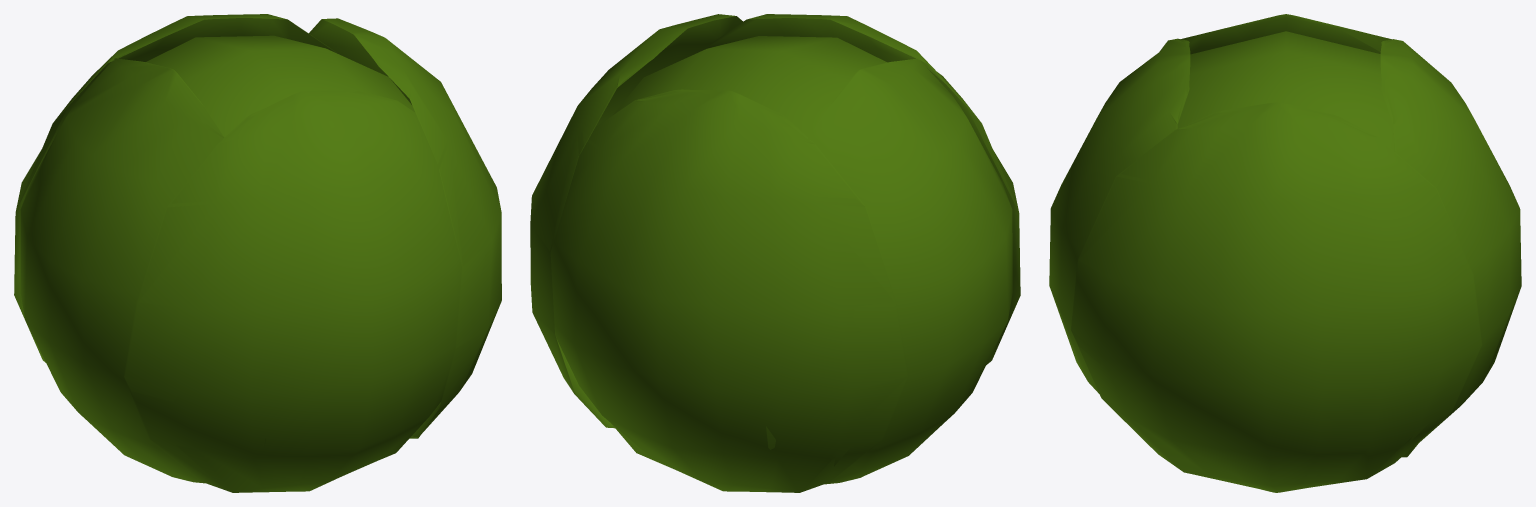
The model's file is Cabbage.fbx.
The picture shows the model from 3 angles, left to right: view 1: azimuth 30°, elevation 25°; view 2: azimuth 150°, elevation 25°; view 3: azimuth 270°, elevation 25°; orthographic projection. The views are drawn at different scales.
Visible parts, largest first — view 1: Cabbage; view 2: Cabbage; view 3: Cabbage.
Boxes of the visible parts, left/top/right/bottom form: Cabbage: left=14, top=14, right=501, bottom=492; Cabbage: left=530, top=14, right=1020, bottom=492; Cabbage: left=1049, top=14, right=1521, bottom=492.
Bounding box in the file's own units: 416 × 380 × 411.
